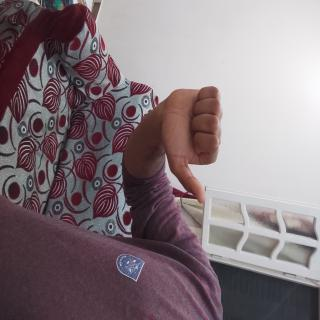DAD: (61, 127, 158, 220)
